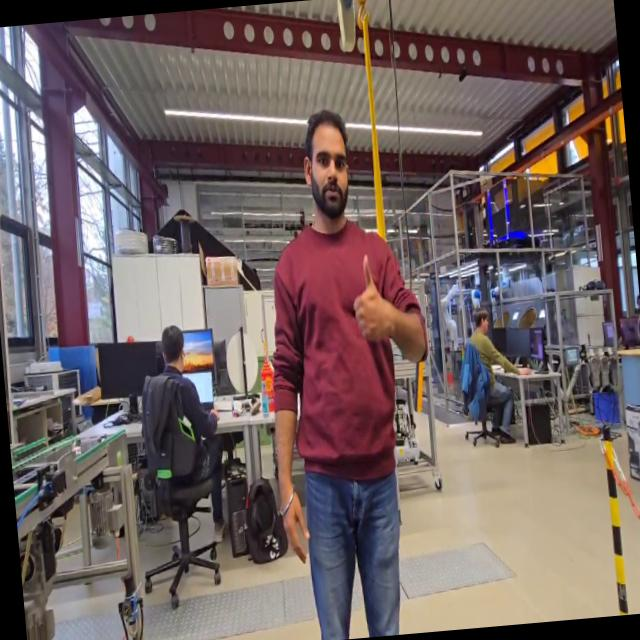thumbs_up: (345, 247, 396, 351)
